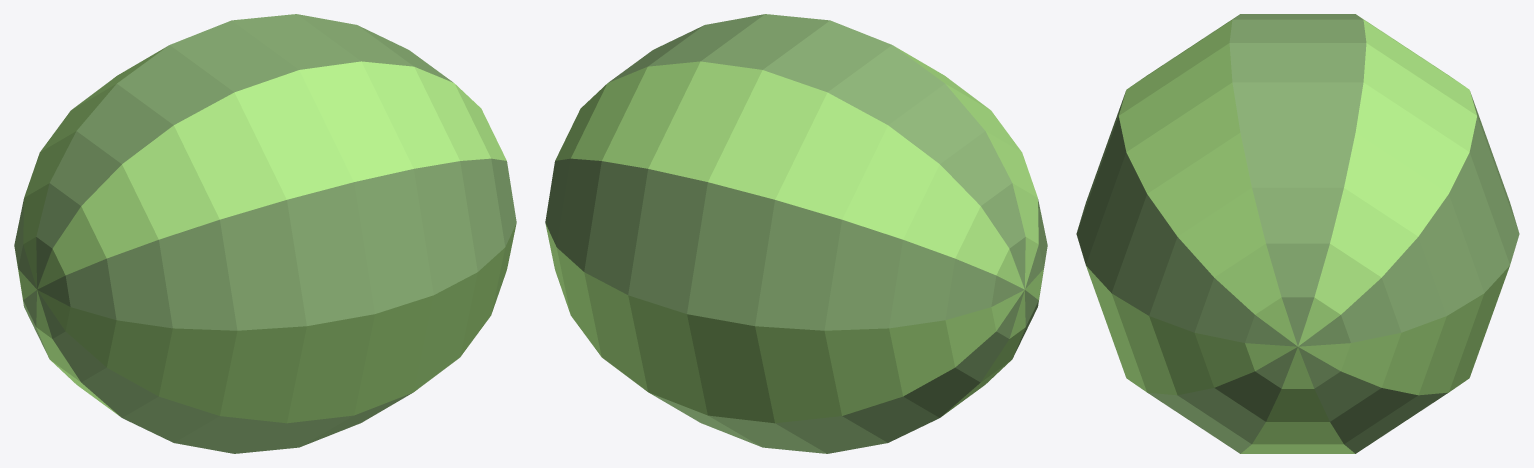
Rendered from watermelon.glb.
3 renders of one model, left to right at view 1: azimuth 30°, elevation 25°; view 2: azimuth 150°, elevation 25°; view 3: azimuth 270°, elevation 25°, orthographic.
Parts seen in each view (by area): view 1: Watermelon_Crop; view 2: Watermelon_Crop; view 3: Watermelon_Crop.
Boxes of the visible parts, x1=… form: Watermelon_Crop: x1=14, y1=14, x2=516, y2=453; Watermelon_Crop: x1=545, y1=14, x2=1047, y2=453; Watermelon_Crop: x1=1076, y1=14, x2=1519, y2=453.
Bounding box in the file's own units: 0.4443 × 0.351 × 0.369.
